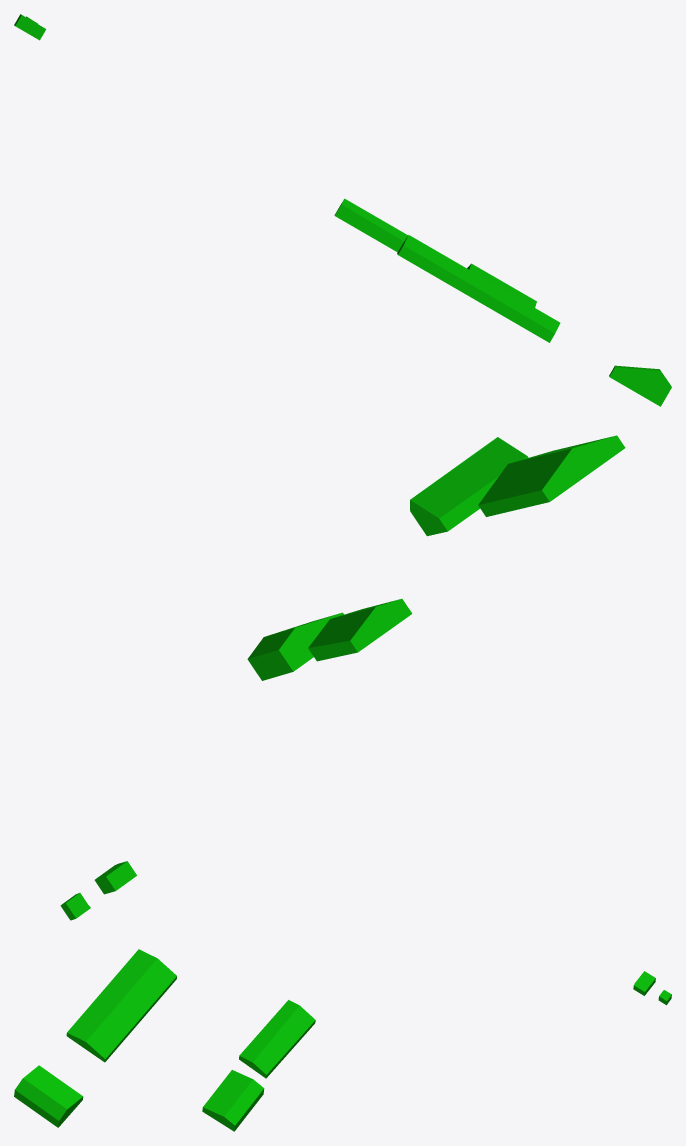
The picture shows the model from 3 angles, top to bottom: view 1: azimuth 30°, elevation 25°; view 2: azimuth 150°, elevation 25°; view 3: azimuth 270°, elevation 25°; orthographic projection. The views are drawn at different scales.
Parts seen in each view (by area): view 1: mesh; view 2: mesh; view 3: mesh.
Boxes of the visible parts, <box> form: mesh: <box>14,14,671,406</box>; mesh: <box>60,435,625,920</box>; mesh: <box>14,949,671,1131</box>.
Bounding box in the file's own units: 59.1 × 43.25 × 216.
